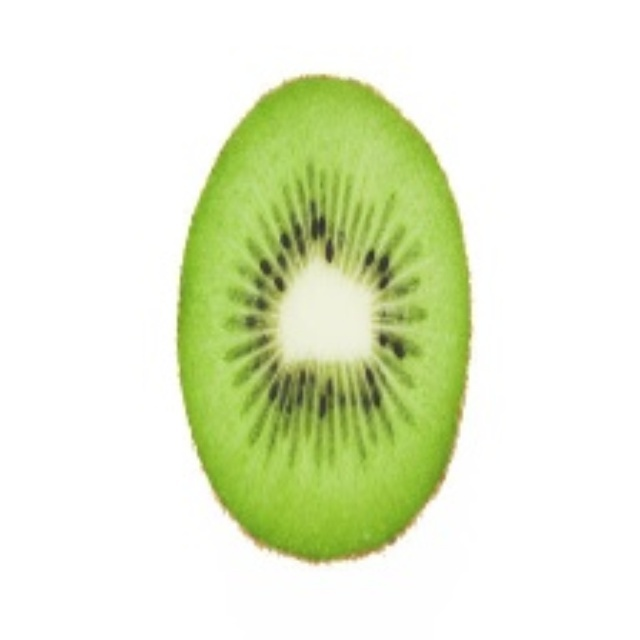kiwi: (173, 73, 479, 573)
